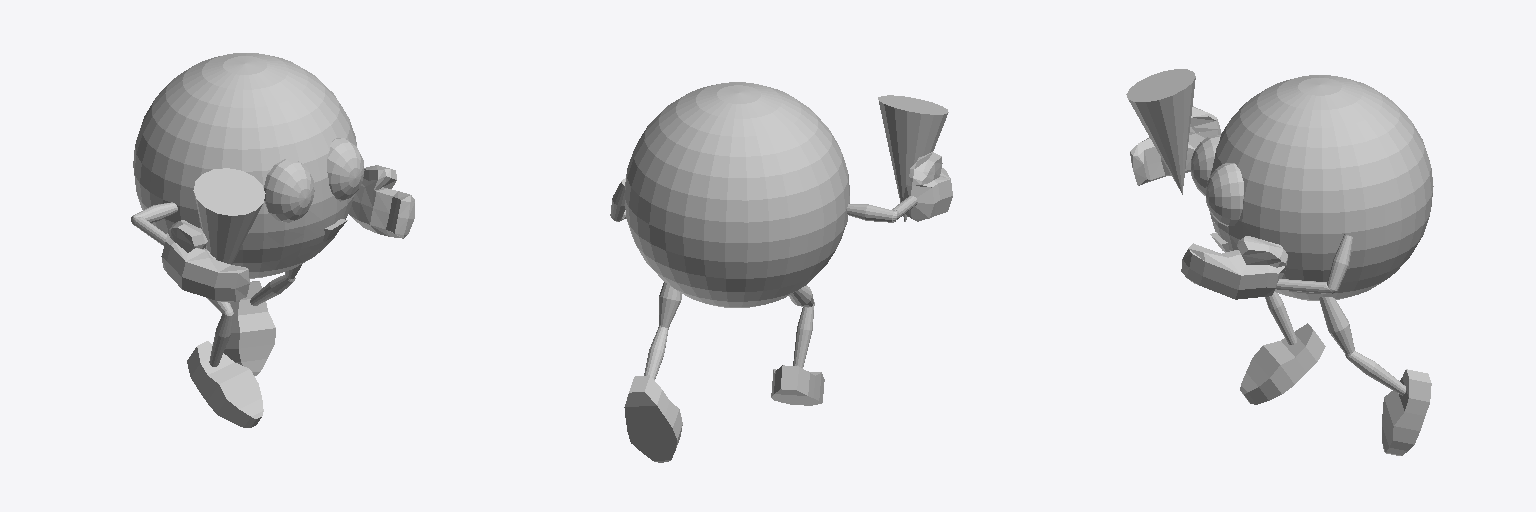
Rendered from Rusko_ani_04_000025.obj.
3 renders of one model, left to right at view 1: azimuth 30°, elevation 25°; view 2: azimuth 150°, elevation 25°; view 3: azimuth 270°, elevation 25°, orthographic.
Visible parts, largest first — view 1: Rusko_Sphere; view 2: Rusko_Sphere; view 3: Rusko_Sphere.
Boxes of the visible parts, box(x1,y1,x2,y2) form: Rusko_Sphere: box(131, 53, 414, 427); Rusko_Sphere: box(610, 82, 952, 462); Rusko_Sphere: box(1126, 69, 1433, 455).
Bounding box in the file's own units: 5.32 × 6.84 × 5.42.